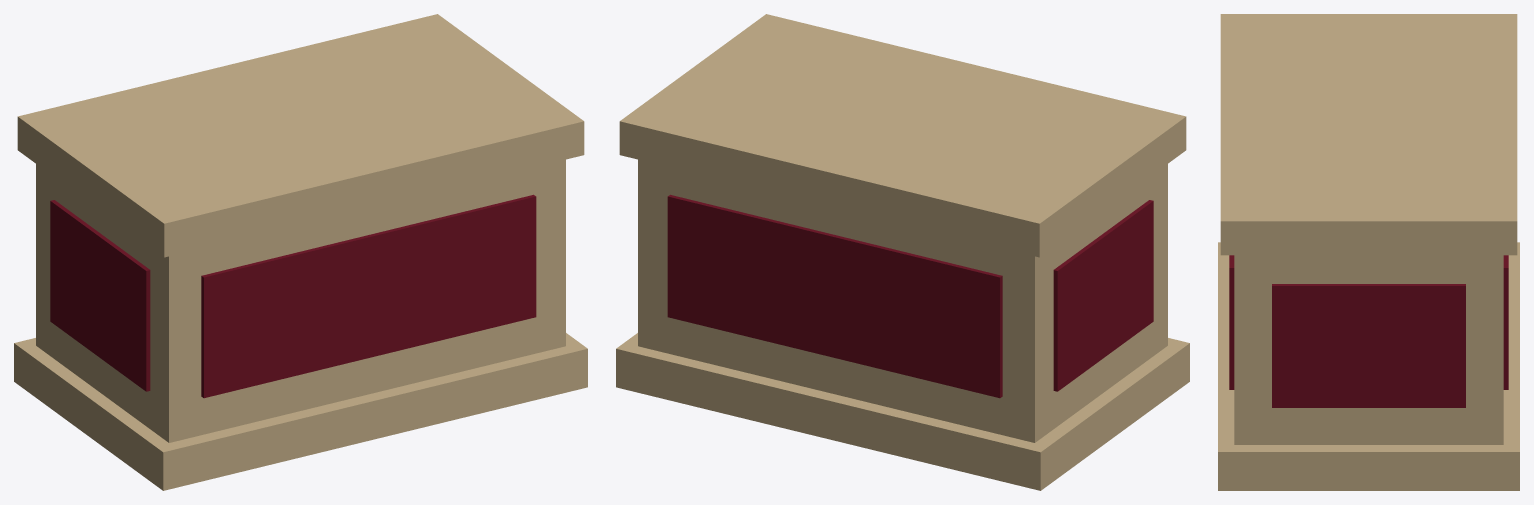
The model's file is crypt_small.glb.
The picture shows the model from 3 angles, left to right: view 1: azimuth 30°, elevation 25°; view 2: azimuth 150°, elevation 25°; view 3: azimuth 270°, elevation 25°; orthographic projection.
Parts seen in each view (by area): view 1: crypt_small; view 2: crypt_small; view 3: crypt_small.
Part boxes in pixels (x1=…): crypt_small: x1=14, y1=14, x2=587, y2=490; crypt_small: x1=616, y1=14, x2=1189, y2=490; crypt_small: x1=1218, y1=14, x2=1519, y2=490.
Size of the model in its own units: 0.92 by 0.55 by 0.56.
